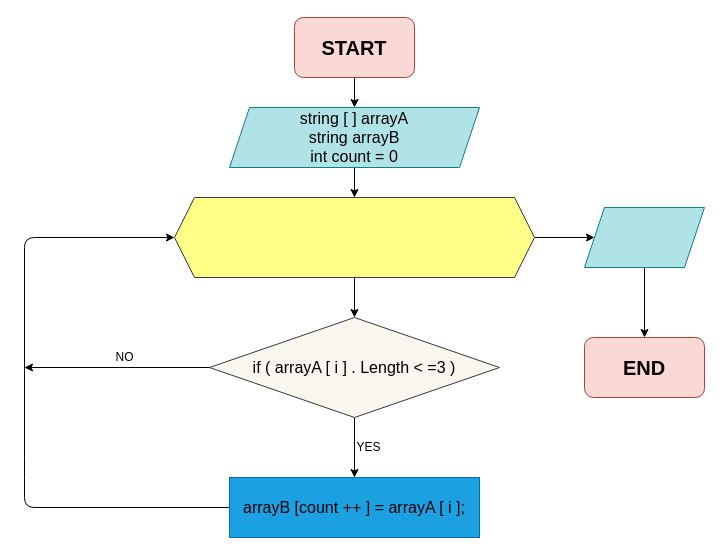
Image size: 722x555. Some labels were removed from this diagram. The centre of each missing label's shape, as x and y in pixels:
"for ( int i = 0; i < arrayA.Length; i ++ )" belongs at (354,237).
"print arrayB" belongs at (644,237).
